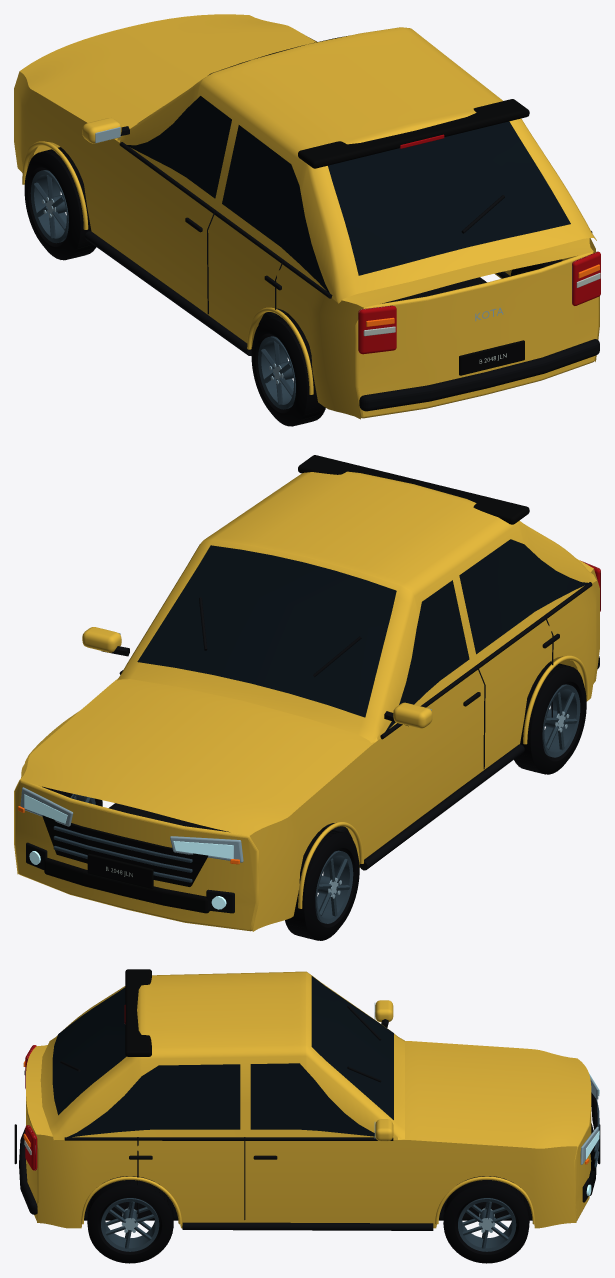
Rendered from Body.fbx.
The picture shows the model from 3 angles, top to bottom: view 1: azimuth 30°, elevation 25°; view 2: azimuth 150°, elevation 25°; view 3: azimuth 270°, elevation 25°; orthographic projection. The views are drawn at different scales.
Parts seen in each view (by area): view 1: Body_Mesh, Wheel_RL_Mesh, Wheel_FL_Mesh, TailLights_Mesh; view 2: Body_Mesh, Wheel_FL_Mesh, Wheel_RL_Mesh, Headlights_Mesh; view 3: Body_Mesh, Wheel_RR_Mesh, Wheel_FR_Mesh, TailLights_Mesh, Headlights_Mesh.
Boxes of the visible parts, box(x1,y1,x2,y2) form: Body_Mesh: box(14, 14, 599, 419); Wheel_RL_Mesh: box(251, 313, 325, 426); Wheel_FL_Mesh: box(24, 147, 96, 260); TailLights_Mesh: box(358, 134, 600, 354); Body_Mesh: box(14, 455, 599, 931); Wheel_FL_Mesh: box(285, 827, 359, 940); Wheel_RL_Mesh: box(514, 661, 586, 774); Headlights_Mesh: box(20, 787, 243, 909); Body_Mesh: box(14, 969, 600, 1230); Wheel_RR_Mesh: box(87, 1180, 173, 1263); Wheel_FR_Mesh: box(443, 1180, 529, 1263); TailLights_Mesh: box(24, 1005, 125, 1170); Headlights_Mesh: box(580, 1072, 599, 1195).
Size of the model in its own units: 210 by 153 by 395.
